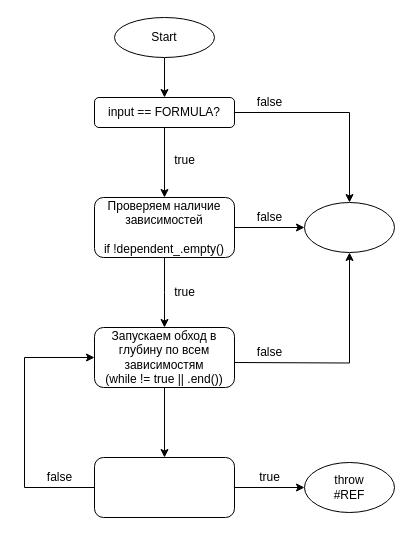
This 412x535 diagram has some shape labels left out. Here are the shapes that lost their labels. From the top down, the centre of each, then its label:
point 349,227: End
point 164,487: initial_pos_ == current_pos_?
